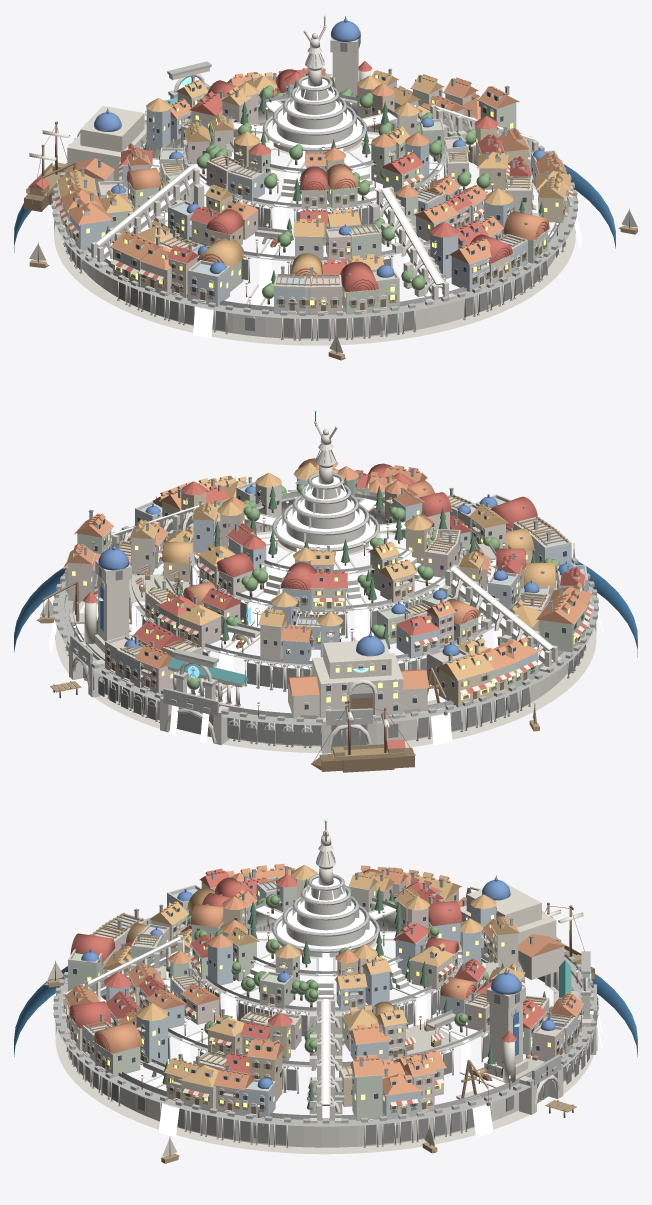
File: Water 7 v2 model.glb
3 renders of one model, top to bottom at view 1: azimuth 30°, elevation 25°; view 2: azimuth 150°, elevation 25°; view 3: azimuth 270°, elevation 25°, orthographic. The views are drawn at different scales.
Visible parts, largest first — view 1: houses_lower, houses_mid, houses_upper, outer_wall, arcade_lower, fountain_central, trees, galley_la_hq, aqueduct_back, aqueduct_right, terraces, waterfalls (+10 smaller); view 2: houses_lower, houses_mid, houses_upper, outer_wall, galley_la_hq, fountain_central, arcade_lower, trees, terraces, clock_tower, waterfalls, aqueduct_right (+14 smaller); view 3: houses_lower, houses_mid, houses_upper, outer_wall, fountain_central, arcade_lower, terraces, galley_la_hq, trees, clock_tower, aqueduct_left, waterfalls (+13 smaller).
Boxes of the visible parts, x1,y1,x2,y2 form: houses_lower: (54,72,572,314); houses_mid: (119,69,510,260); houses_upper: (182,67,446,208); outer_wall: (51,120,578,345); arcade_lower: (63,222,566,340); fountain_central: (262,67,366,154); trees: (105,77,544,304); galley_la_hq: (65,106,146,195); aqueduct_back: (369,186,455,303); aqueduct_right: (86,164,204,267); terraces: (70,97,564,331); waterfalls: (47,119,581,338); houses_lower: (62,458,593,707); houses_mid: (128,471,525,664); houses_upper: (191,460,463,611); outer_wall: (50,489,598,752); galley_la_hq: (286,631,429,722); fountain_central: (272,464,379,556); arcade_lower: (64,595,587,748); trees: (96,477,560,694); terraces: (64,496,578,738); clock_tower: (83,543,131,653); waterfalls: (49,518,602,745); aqueduct_right: (441,564,562,672); houses_lower: (64,863,584,1120); houses_mid: (127,867,526,1061); houses_upper: (189,864,462,1010); outer_wall: (53,917,598,1154); fountain_central: (272,866,379,958); arcade_lower: (66,972,584,1147); terraces: (65,902,584,1138); galley_la_hq: (458,875,565,979); trees: (89,878,546,1109); clock_tower: (484,968,528,1083); aqueduct_left: (309,999,342,1123); waterfalls: (158,935,601,1137).
Size of the model in its own units: 120 by 51.97 by 120.
